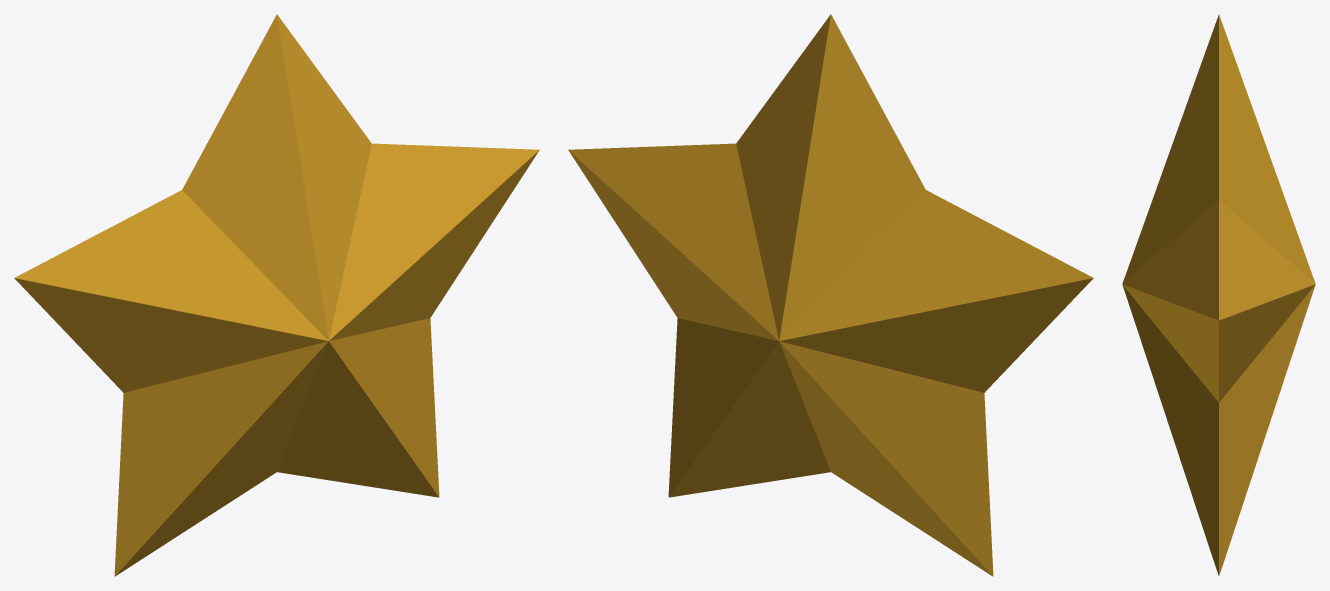
The model's file is star.fbx.
3 renders of one model, left to right at view 1: azimuth 30°, elevation 25°; view 2: azimuth 150°, elevation 25°; view 3: azimuth 270°, elevation 25°, orthographic. The views are drawn at different scales.
Visible parts, largest first — view 1: Torus.001; view 2: Torus.001; view 3: Torus.001.
Part boxes in pixels (bbox=[...]): Torus.001: bbox=[14, 14, 539, 576]; Torus.001: bbox=[568, 14, 1093, 576]; Torus.001: bbox=[1122, 14, 1315, 575].
Bounding box in the file's own units: 21.7 × 20.64 × 7.4.
